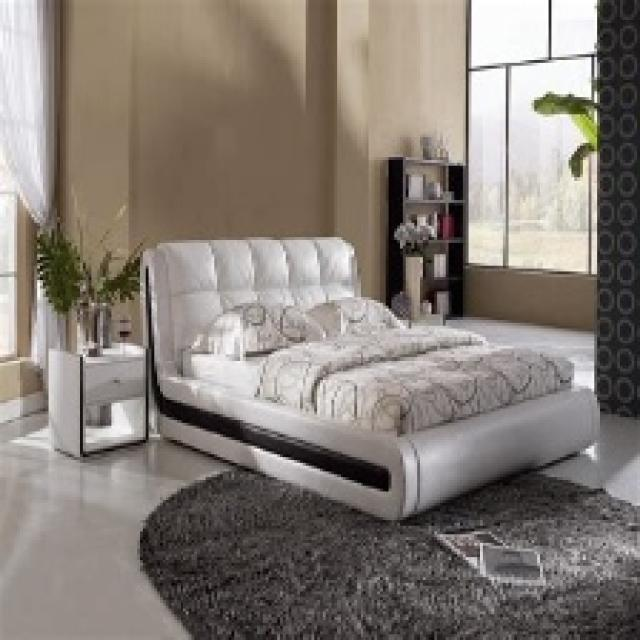Bed: (140, 234, 600, 520)
